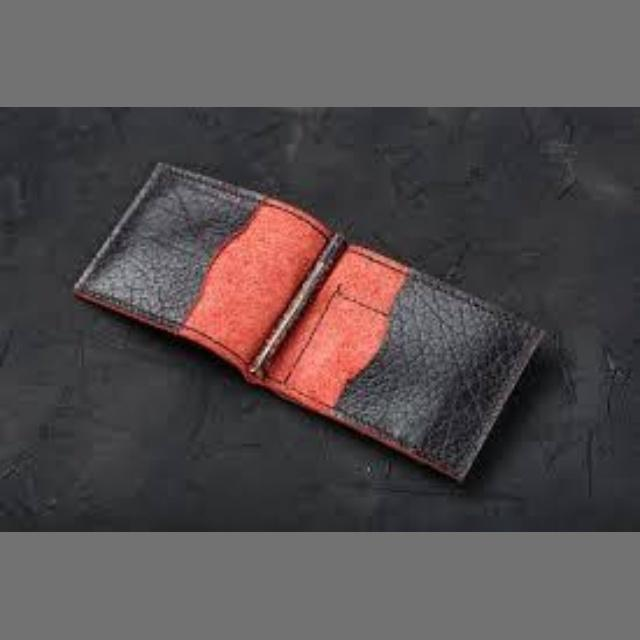Wallet: (76, 145, 586, 519)
